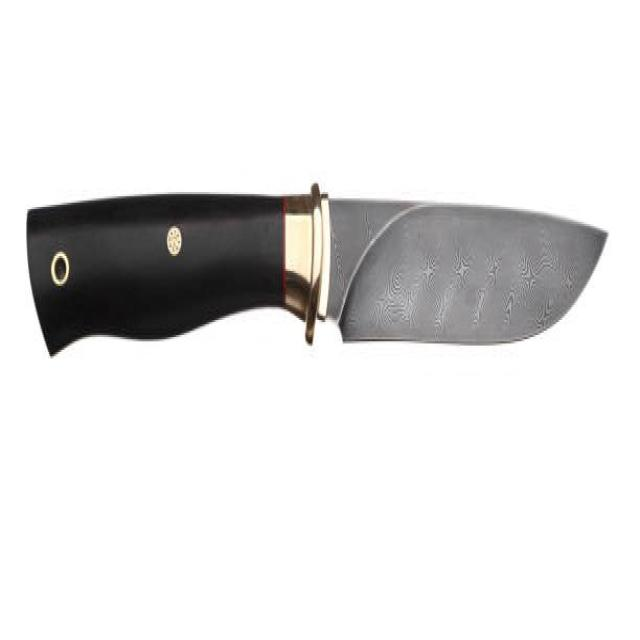knife: (24, 179, 609, 369)
